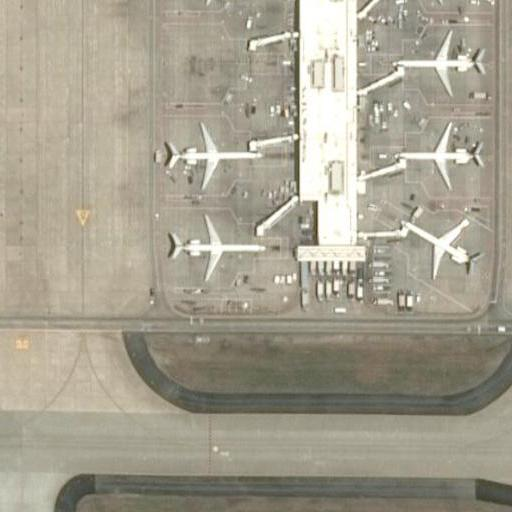Aircraft: (158, 123, 264, 190), (158, 218, 264, 284), (390, 32, 484, 99), (388, 128, 489, 187), (401, 213, 486, 276), (384, 0, 478, 5), (162, 0, 271, 2)
